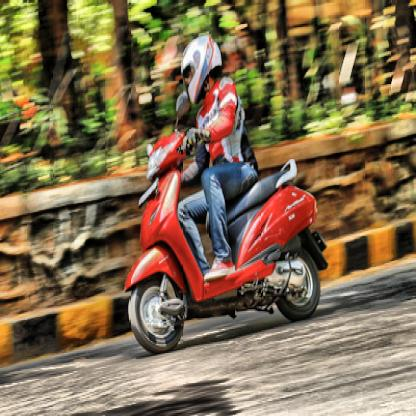wear: (182, 37, 223, 97)
